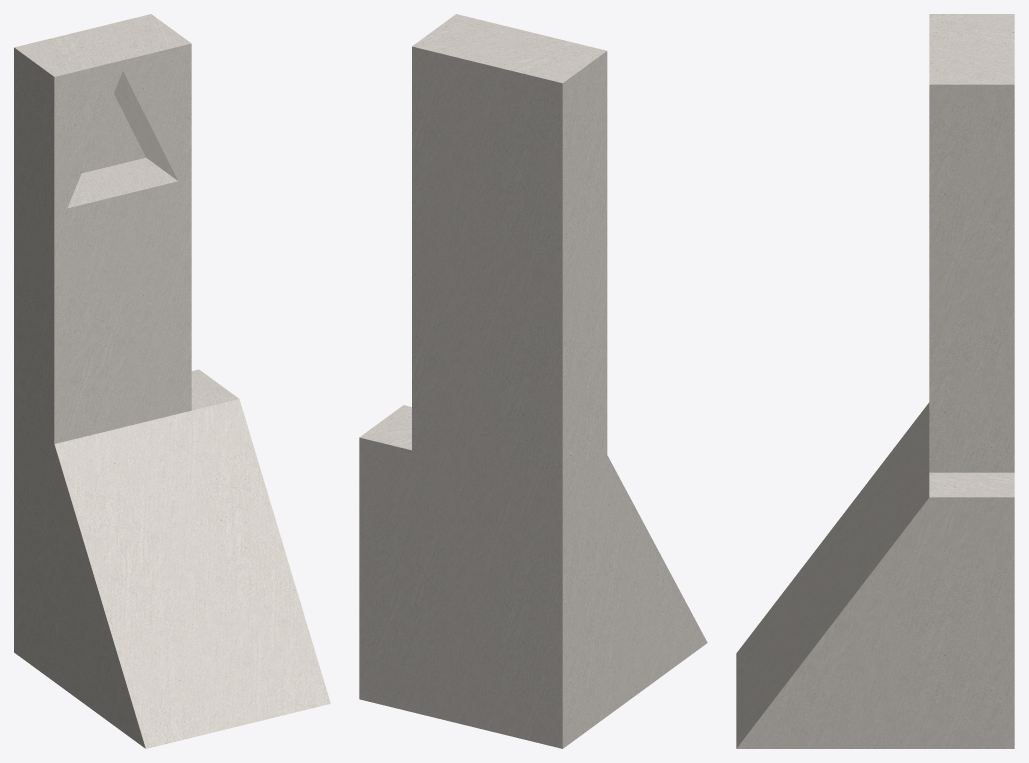
The model's file is king-white-hd.glb.
3 views of the same model, side by side, from view 1: azimuth 30°, elevation 25°; view 2: azimuth 150°, elevation 25°; view 3: azimuth 270°, elevation 25° (orthographic). The views are drawn at different scales.
Visible parts, largest first — view 1: kral_bila; view 2: kral_bila; view 3: kral_bila.
Part boxes in pixels (<box>): kral_bila: <box>14,14,330,748</box>; kral_bila: <box>359,14,707,748</box>; kral_bila: <box>736,14,1014,748</box>.
Bounding box in the file's own units: 0.4544 × 1.42 × 0.5605.
1 material, 1 textured.
